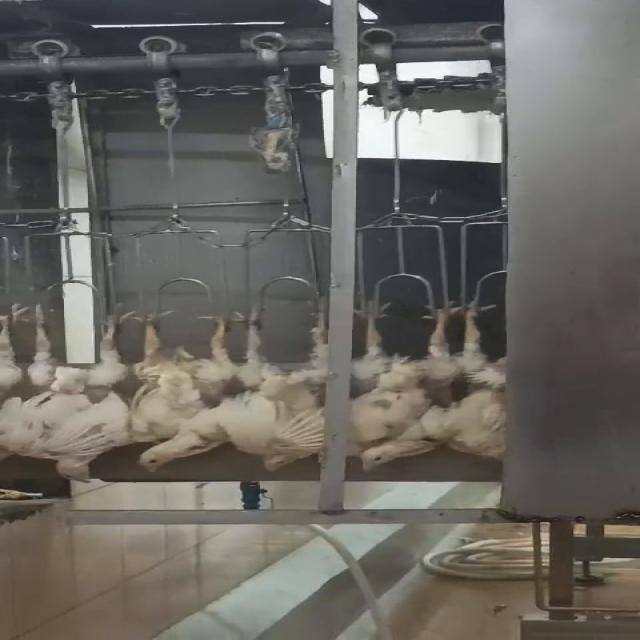chicken: (126, 304, 254, 476), (345, 284, 459, 474), (18, 303, 122, 486), (233, 296, 339, 472), (446, 284, 512, 463), (0, 308, 29, 466)
